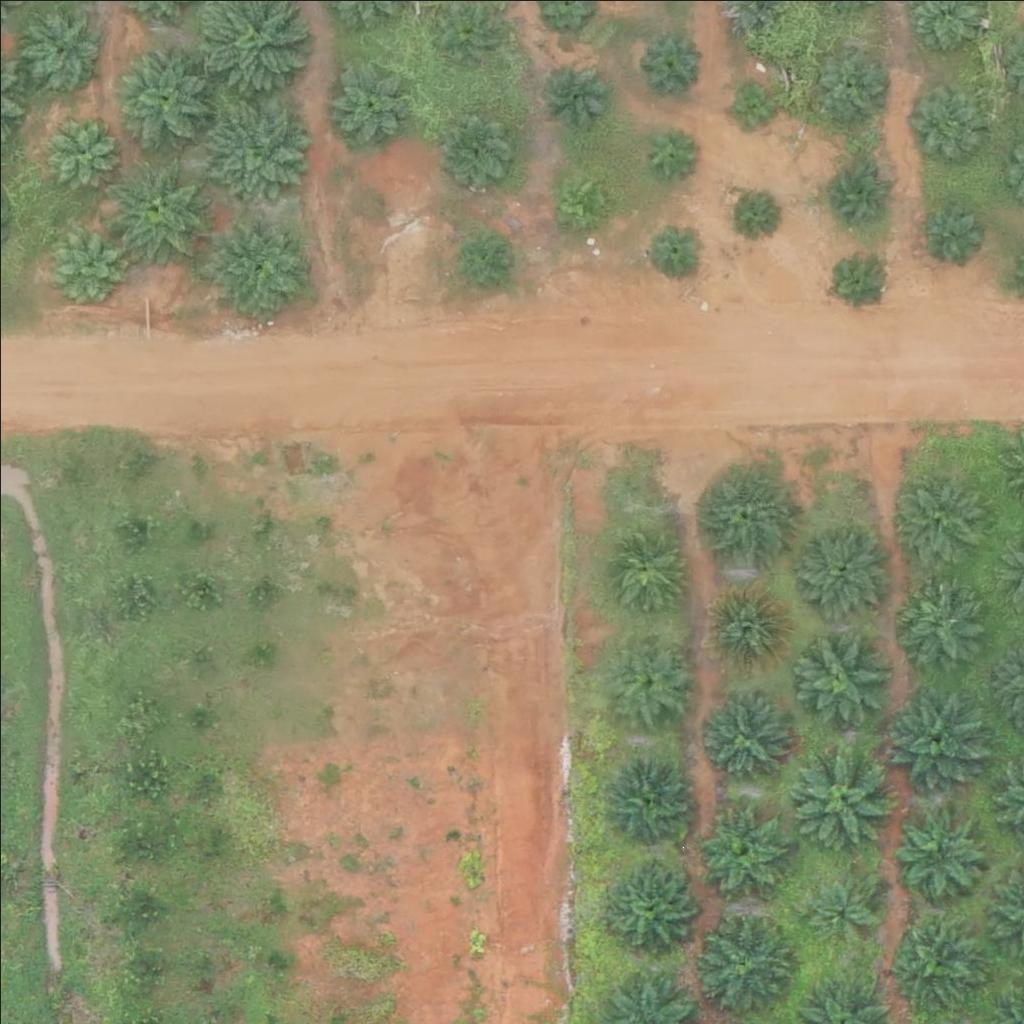Kelapa_Sawit: (194, 88, 307, 202), (785, 745, 885, 846), (884, 909, 984, 1010), (886, 685, 986, 786), (889, 472, 989, 573), (787, 624, 887, 725), (789, 520, 889, 621), (690, 466, 790, 567), (206, 214, 306, 315), (108, 163, 208, 264), (693, 910, 793, 1010), (108, 44, 208, 144), (695, 806, 783, 894), (701, 696, 789, 784), (701, 585, 789, 673), (596, 522, 684, 610), (36, 218, 123, 306), (603, 856, 690, 944), (602, 759, 689, 847), (603, 633, 690, 721), (894, 810, 981, 898), (887, 582, 974, 670), (803, 868, 878, 944), (441, 106, 516, 182), (332, 65, 407, 141), (18, 6, 93, 82), (907, 85, 982, 160), (809, 41, 884, 116), (43, 114, 118, 189), (538, 51, 613, 126), (827, 249, 890, 312), (826, 160, 889, 223), (552, 165, 615, 228), (460, 227, 523, 290), (918, 200, 980, 263), (643, 218, 705, 281), (639, 118, 701, 181), (639, 31, 701, 94), (725, 186, 775, 237), (726, 80, 776, 131)
